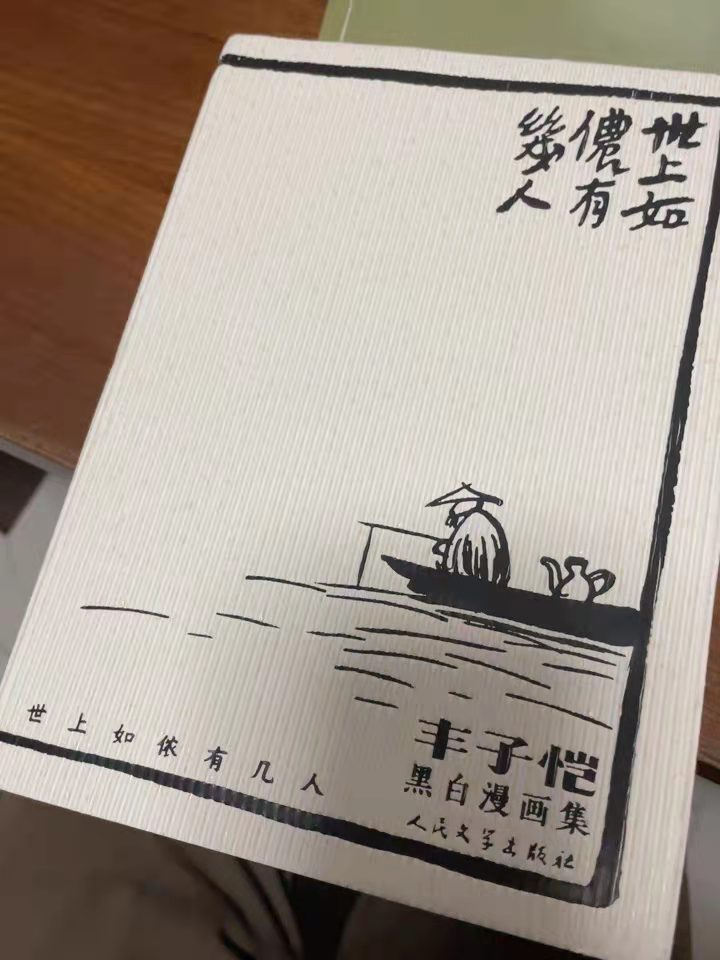book: (9, 29, 720, 960)
